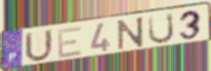3: (178, 8, 206, 41)
4: (89, 21, 112, 54)
E: (56, 25, 83, 60)
N: (117, 15, 146, 52)
U: (23, 28, 55, 64), (147, 11, 176, 45)
